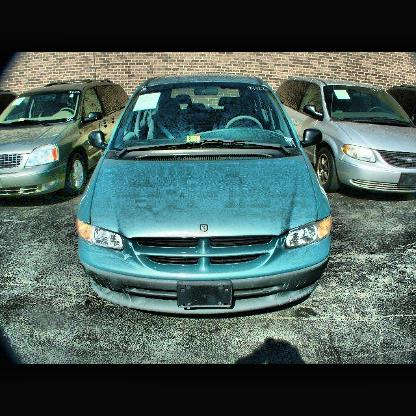Dodge Caravan Minivan 1997: (77, 73, 336, 322)
